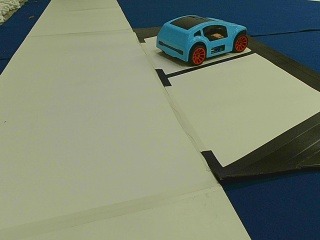car: (157, 15, 249, 64)
